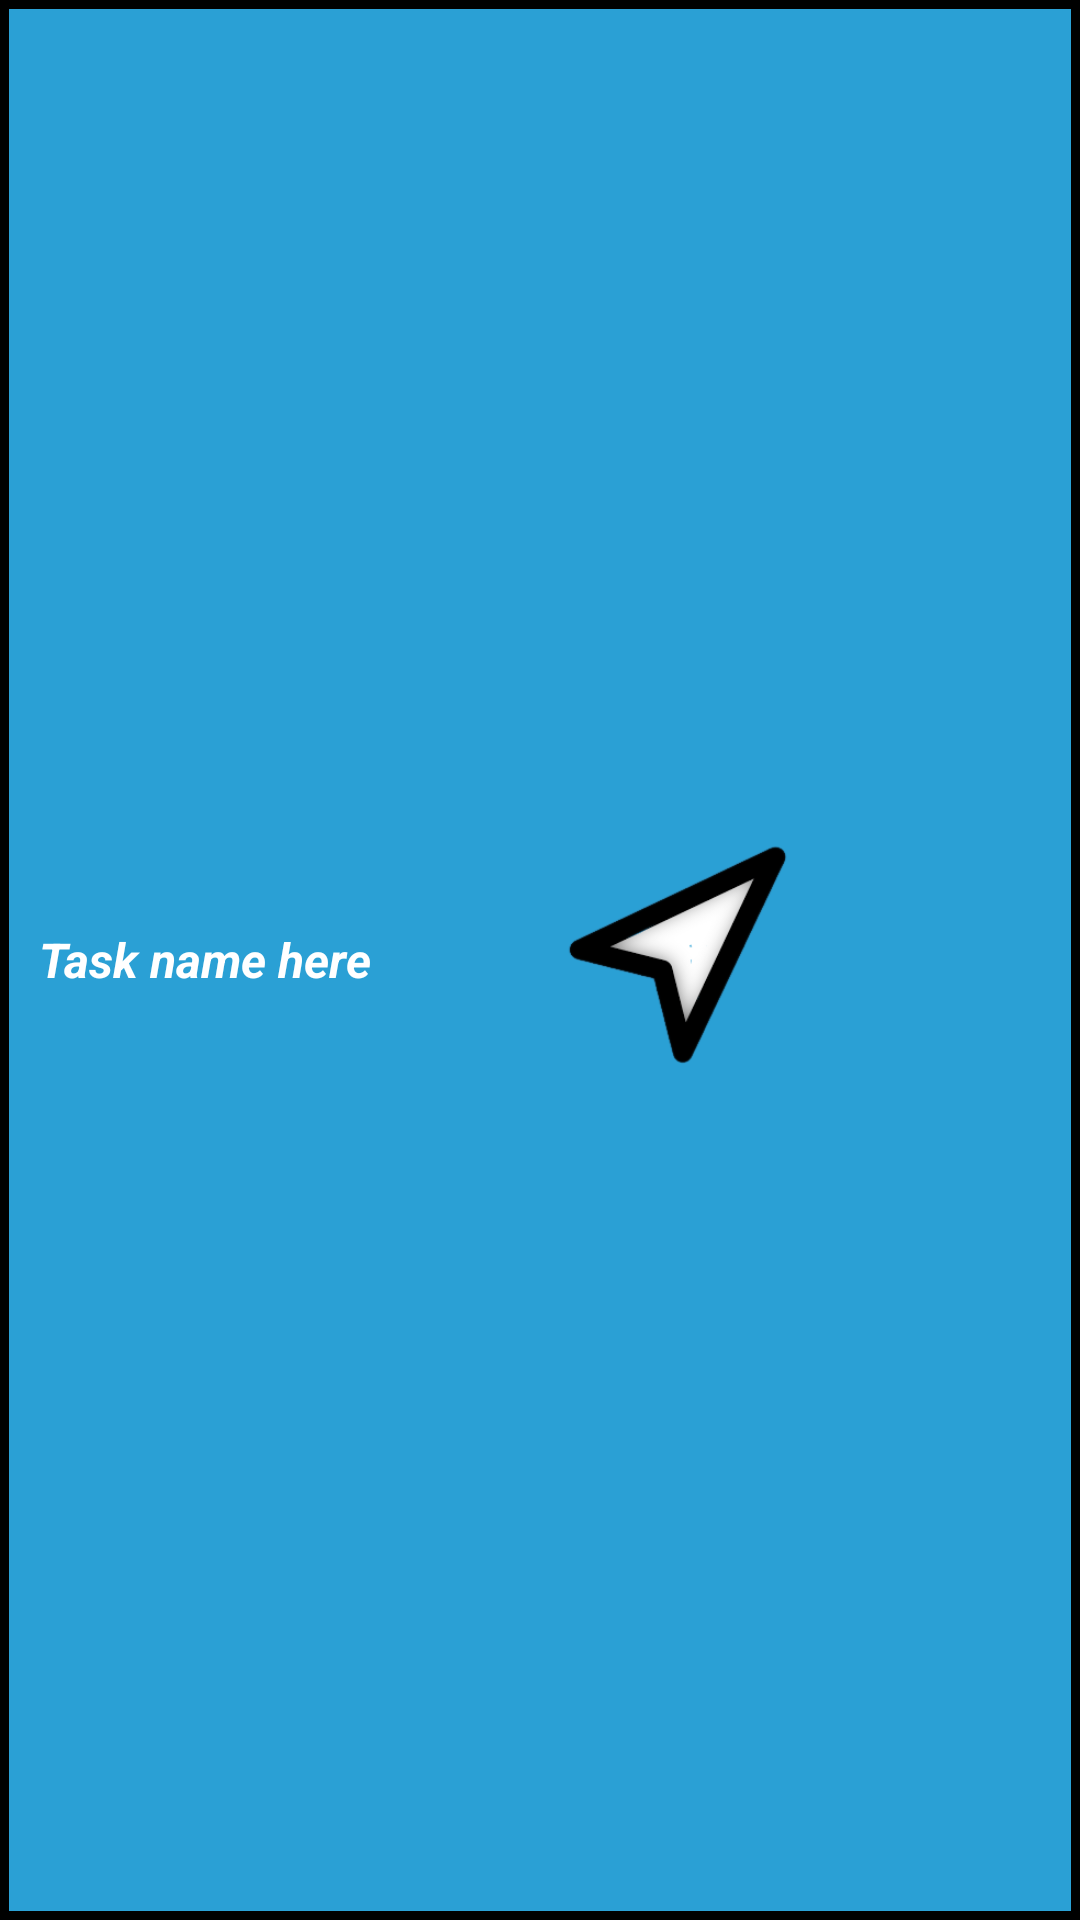

Icon click points for this 1080 x 1920 phone screenshot, format [x,y]:
navigation: [677,954]
